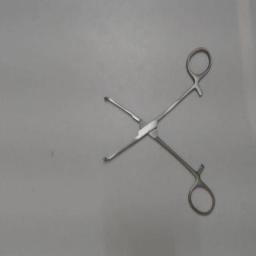Allis Tissue Forceps: (99, 42, 217, 220)
